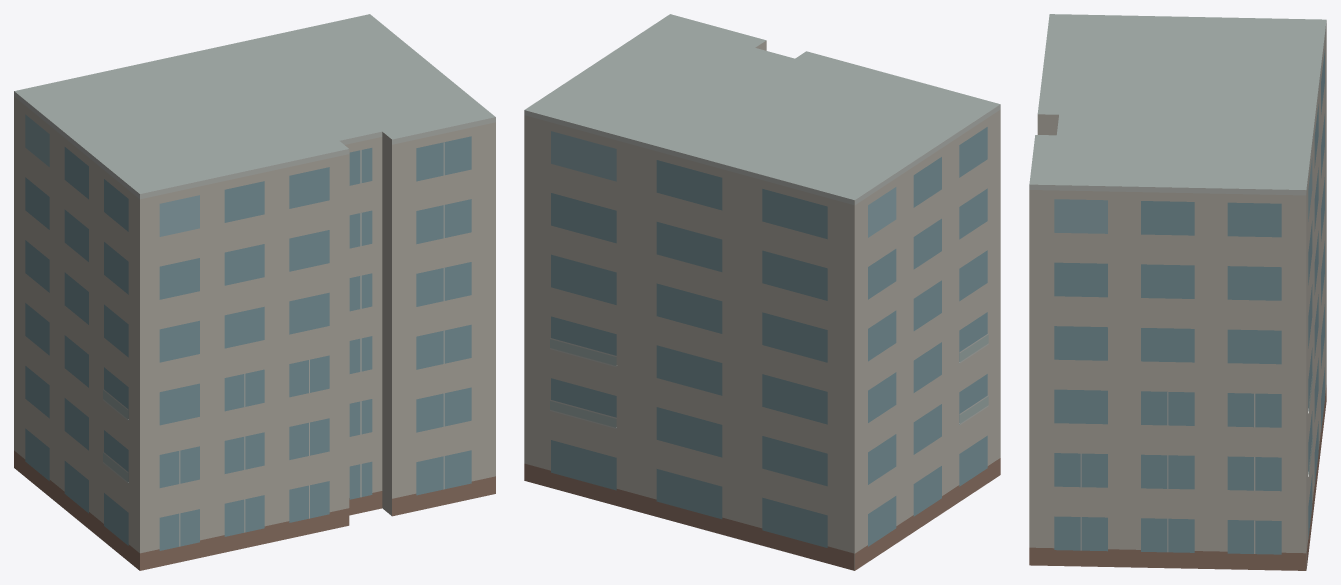
The model's file is survey-upis-33024503.glb.
The picture shows the model from 3 angles, left to right: view 1: azimuth 30°, elevation 25°; view 2: azimuth 150°, elevation 25°; view 3: azimuth 270°, elevation 25°; orthographic projection. The views are drawn at different scales.
Visible parts, largest first — view 1: survey-upis-33024503.tmp; view 2: survey-upis-33024503.tmp; view 3: survey-upis-33024503.tmp.
Boxes of the visible parts, x1,y1,x2,y2 form: survey-upis-33024503.tmp: (14,14,495,570); survey-upis-33024503.tmp: (524,14,1000,570); survey-upis-33024503.tmp: (1029,14,1326,570).
Size of the model in its own units: 17.47 by 17.6 by 12.46.
